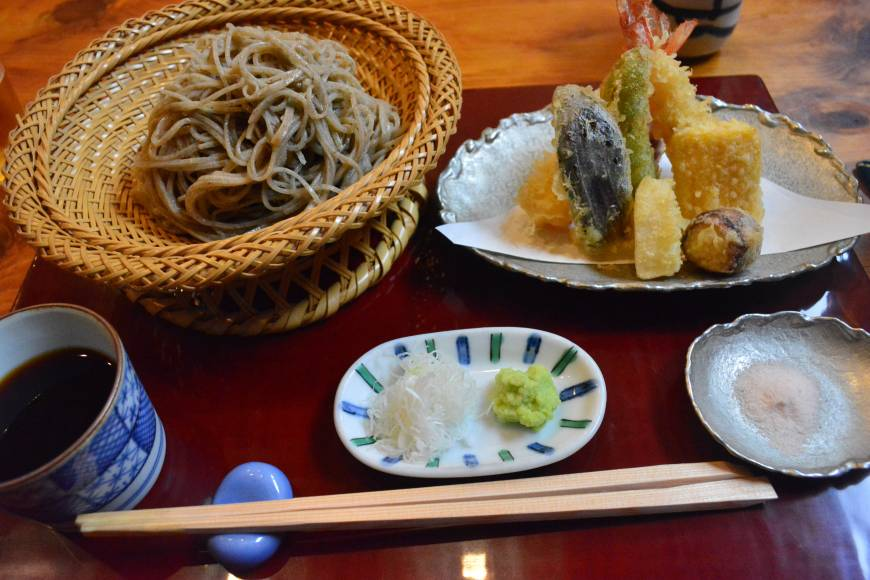Soba: (145, 23, 406, 232)
